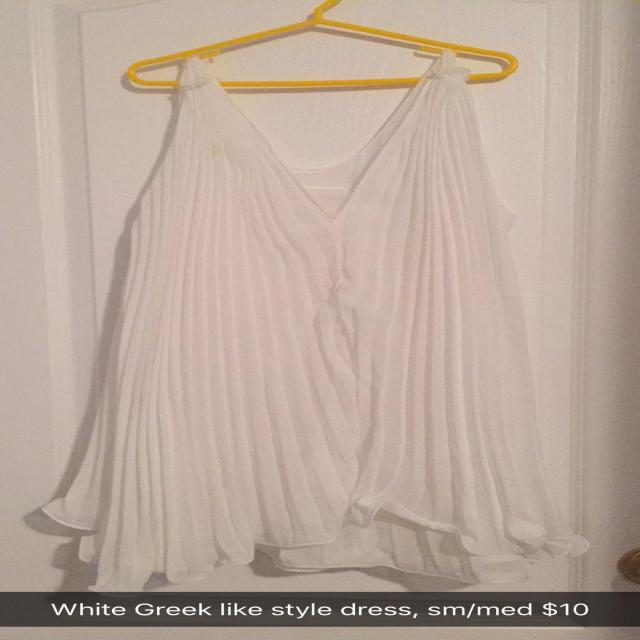Dress: (51, 44, 598, 579)
